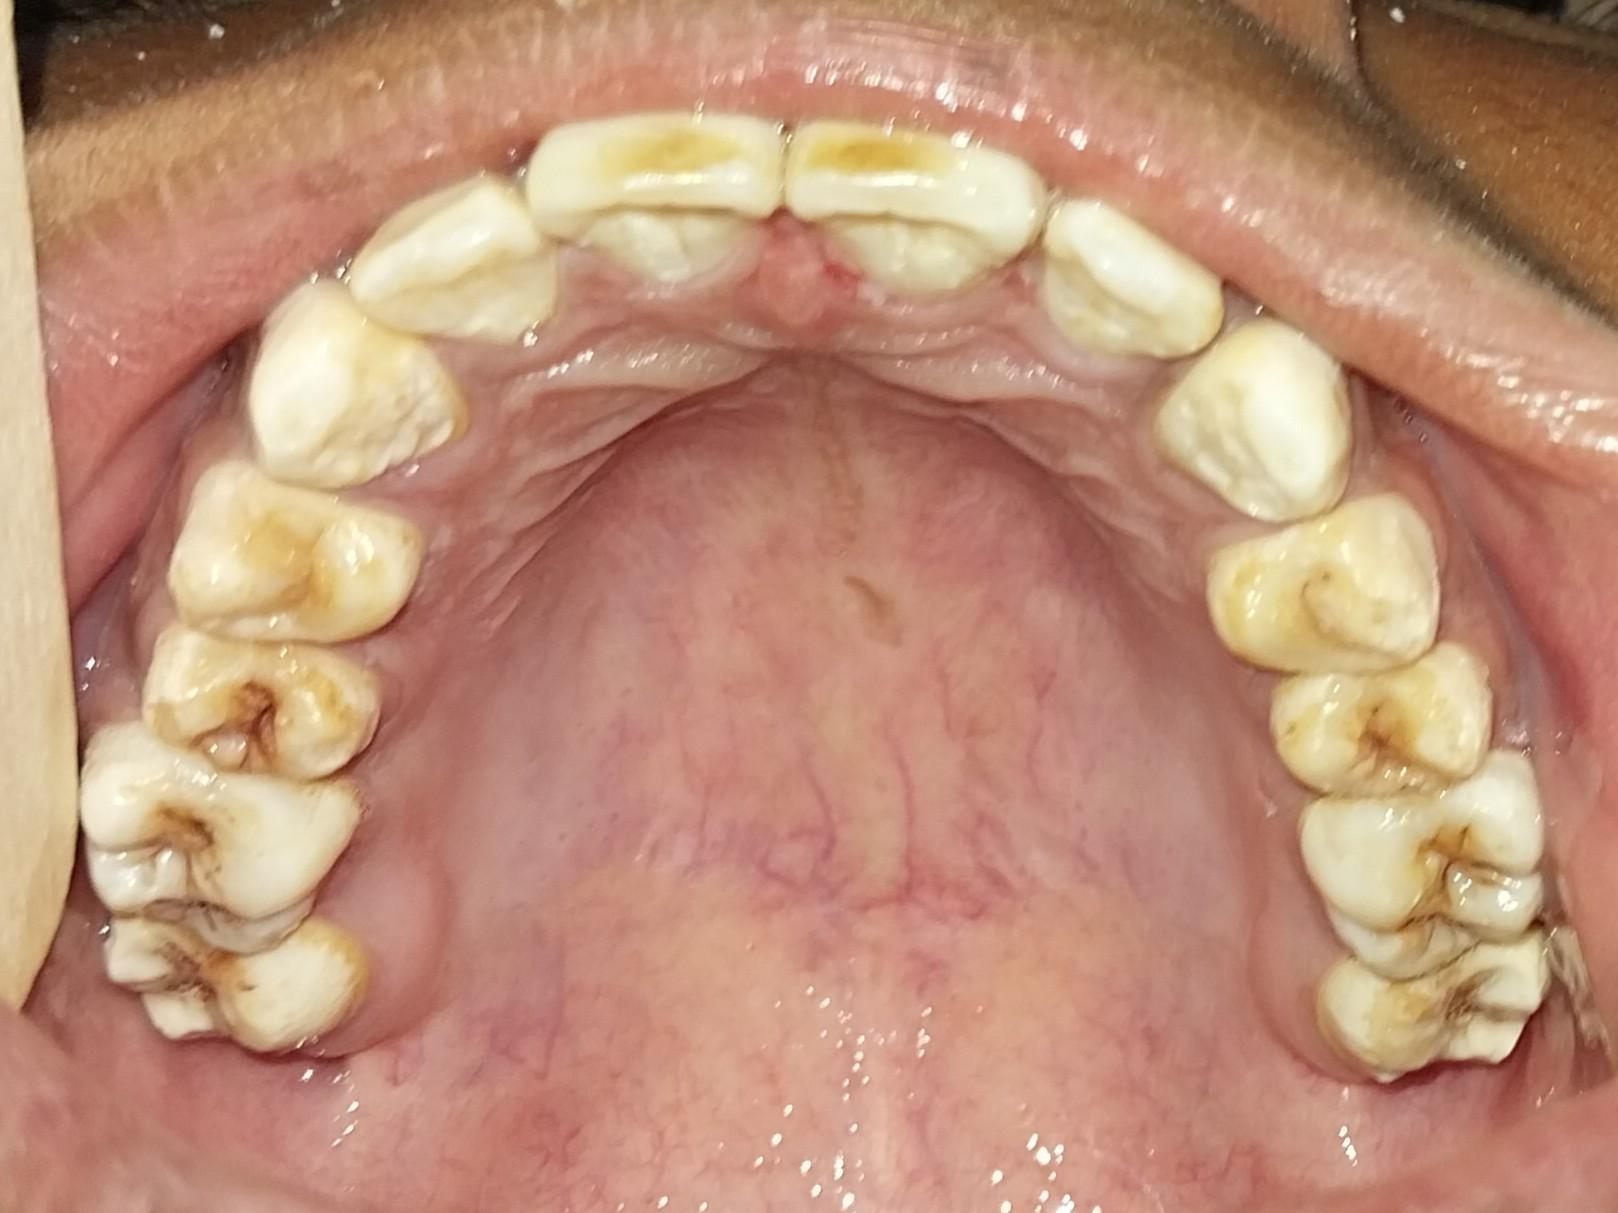D: (71, 730, 338, 953), (1309, 787, 1552, 967), (138, 630, 379, 777), (1328, 946, 1549, 1087), (111, 927, 352, 1056), (1279, 662, 1492, 798)
